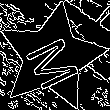M_NE: (19, 25, 85, 90)
